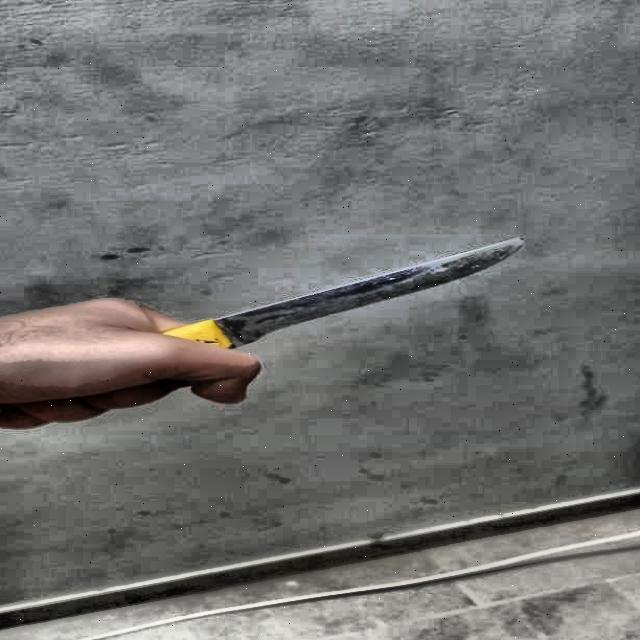knife: (159, 238, 525, 348)
